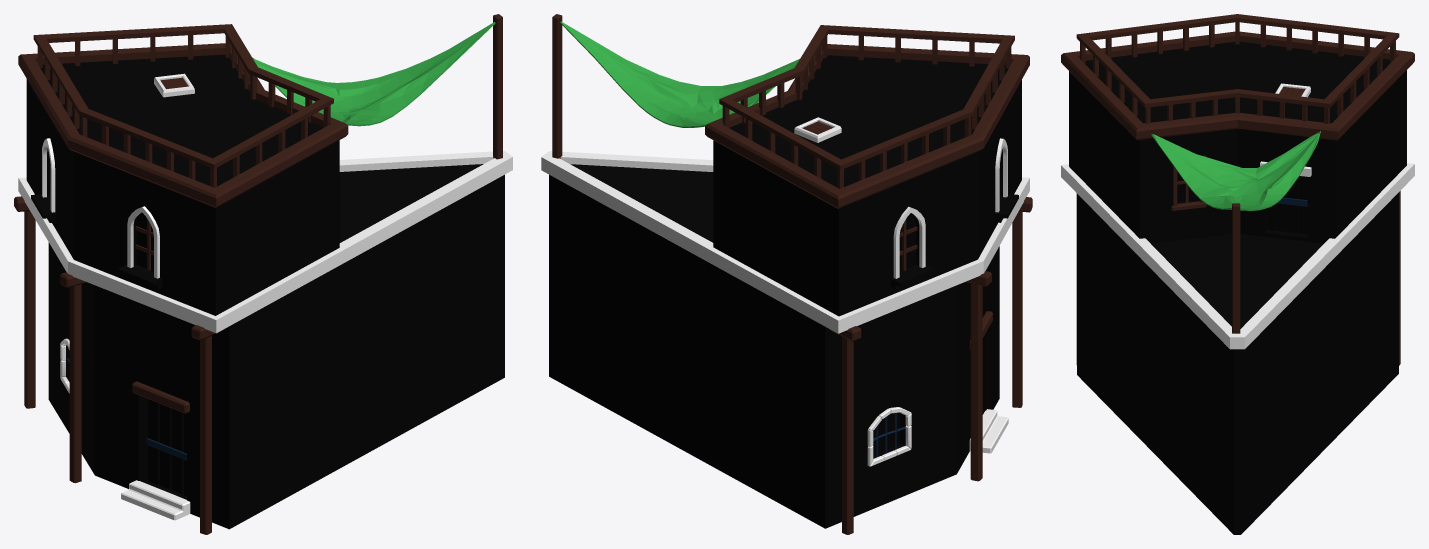
The model's file is civilian_house_30_d.FBX.
3 renders of one model, left to right at view 1: azimuth 30°, elevation 25°; view 2: azimuth 150°, elevation 25°; view 3: azimuth 270°, elevation 25°, orthographic. The views are drawn at different scales.
Parts seen in each view (by area): view 1: civilian_house_30_d; view 2: civilian_house_30_d; view 3: civilian_house_30_d.
Boxes of the visible parts, left/top/right/bottom form: civilian_house_30_d: left=14, top=14, right=512, bottom=534; civilian_house_30_d: left=541, top=14, right=1032, bottom=534; civilian_house_30_d: left=1061, top=14, right=1414, bottom=534.
Size of the model in its own units: 1268 by 999 by 960.
